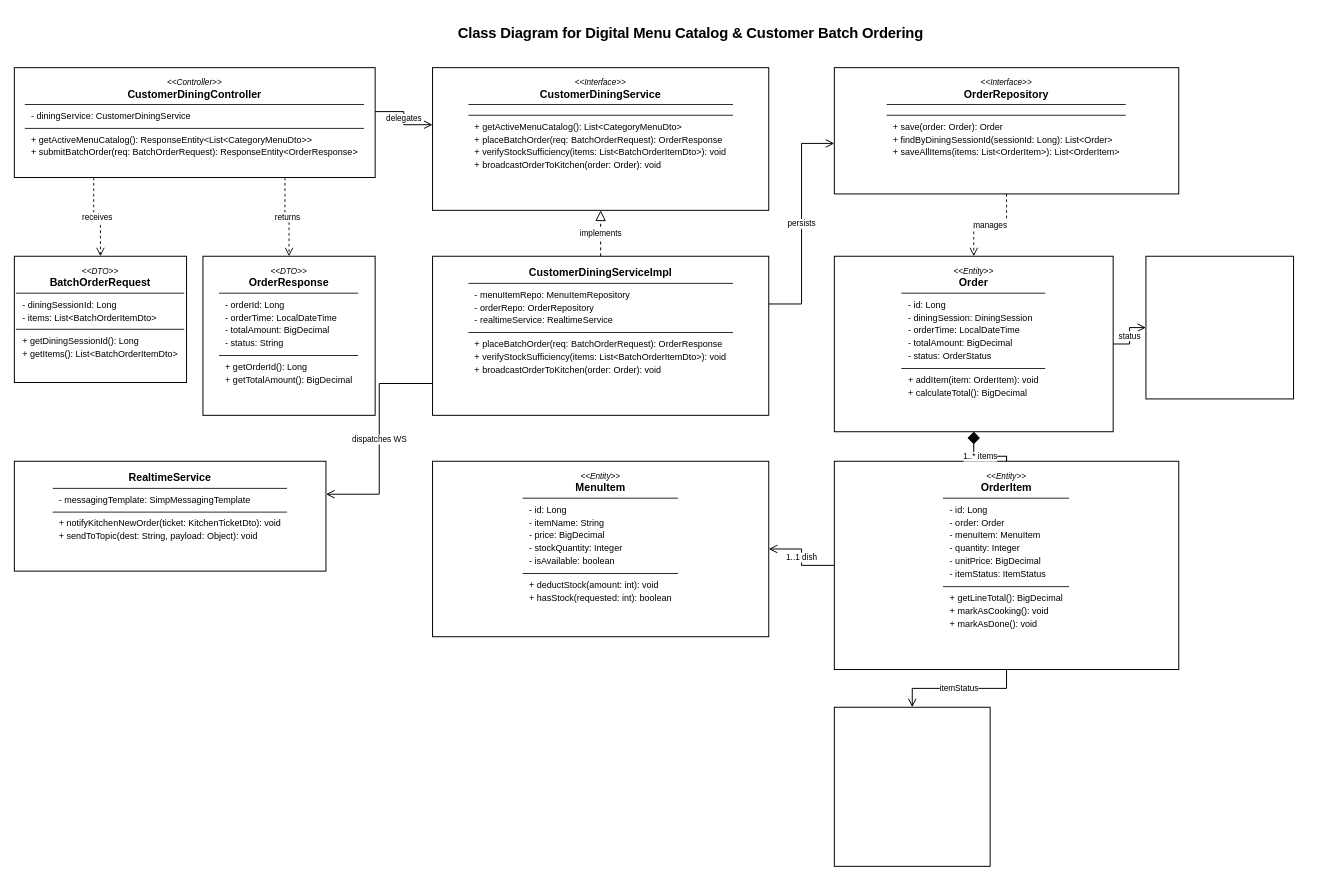
Image size: 1341x882. Some labels were removed from this diagram. The centre of each missing label's shape, as x and y in pixels:
<<Enumeration>> ItemStatus PENDING COOKING DONE SERVED CANCELLED: the point at 911,786
<<Enumeration>> OrderStatus PENDING CONFIRMED PAID CANCELLED: the point at 1219,327
